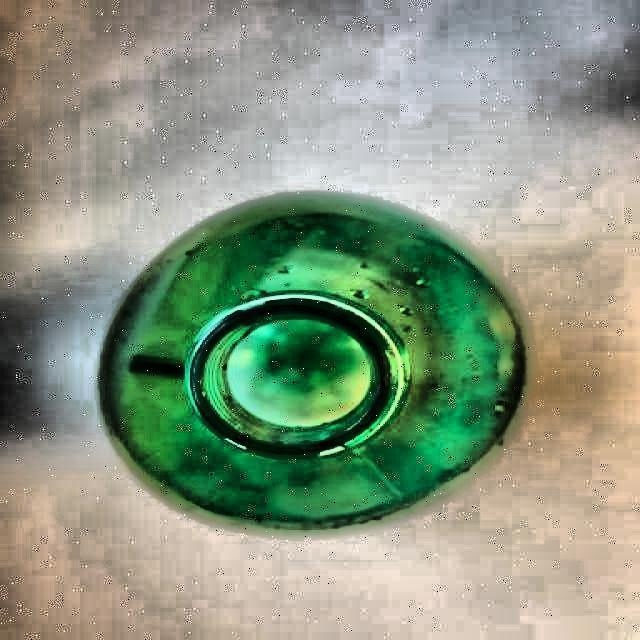plastic: (100, 195, 524, 528)
